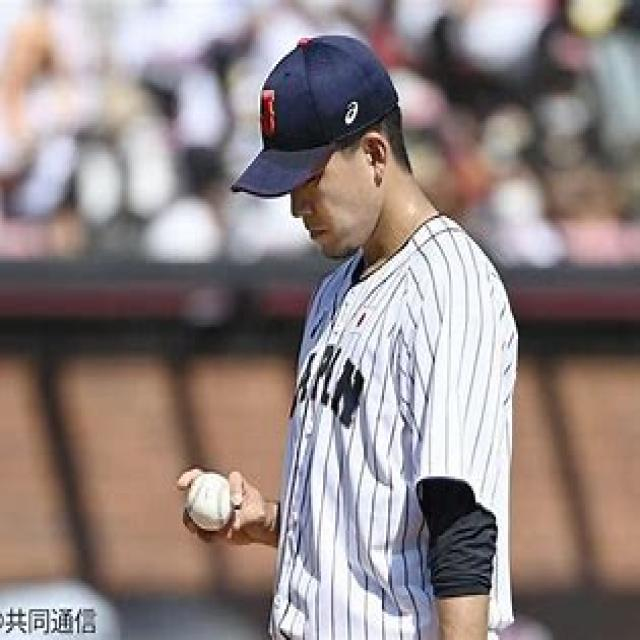ball: (185, 470, 234, 533)
